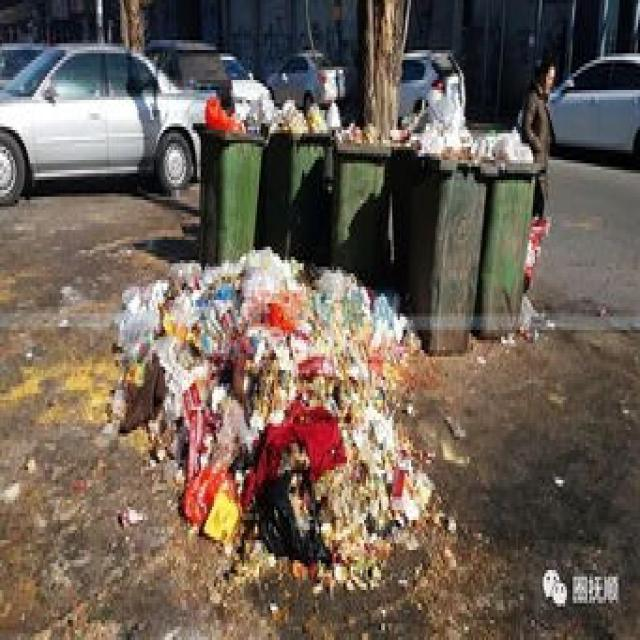garbage: (101, 243, 432, 587)
overflow: (390, 70, 496, 350), (471, 126, 533, 336), (190, 94, 264, 264), (261, 97, 328, 260), (326, 120, 391, 267)
